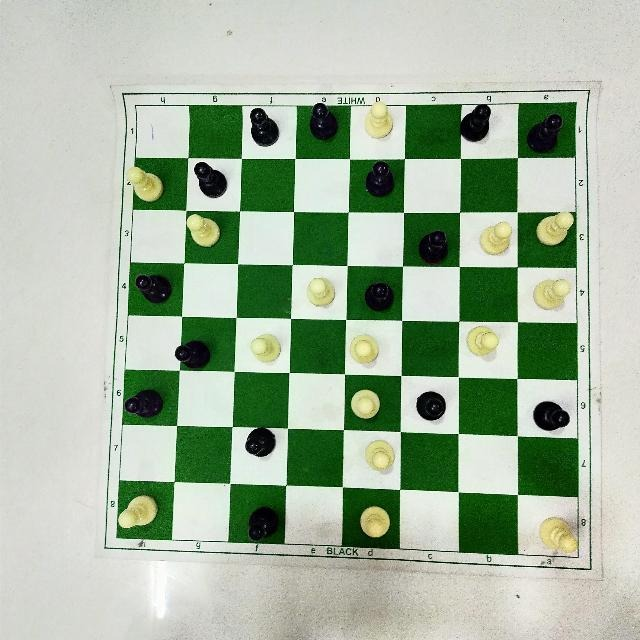black-pawn: (358, 158, 400, 202), (523, 113, 565, 155), (245, 504, 287, 545), (190, 159, 232, 200), (131, 270, 175, 306), (412, 387, 452, 426), (123, 387, 167, 422), (454, 105, 492, 145), (529, 399, 573, 433), (248, 105, 282, 148), (415, 228, 452, 267), (241, 424, 281, 460), (306, 102, 342, 141), (172, 338, 212, 372), (362, 279, 398, 315)
white-pawn: (534, 510, 584, 555), (115, 490, 164, 532), (180, 209, 226, 251), (529, 274, 573, 314), (535, 209, 577, 249), (124, 163, 166, 202), (303, 274, 343, 312), (348, 385, 386, 425), (358, 499, 396, 539), (476, 220, 516, 257), (244, 330, 286, 364), (464, 322, 500, 360), (363, 101, 397, 141), (361, 437, 397, 474), (346, 332, 381, 367)
